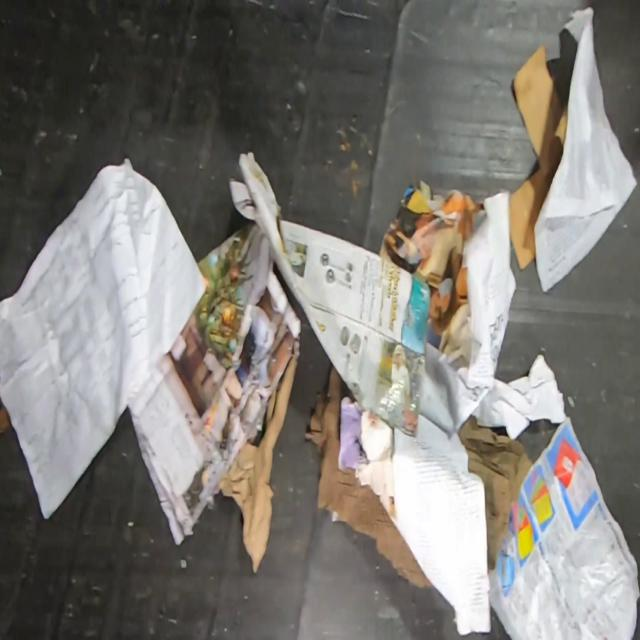cardboard: (228, 152, 430, 440), (304, 362, 436, 587), (509, 44, 568, 269), (456, 413, 533, 574)
